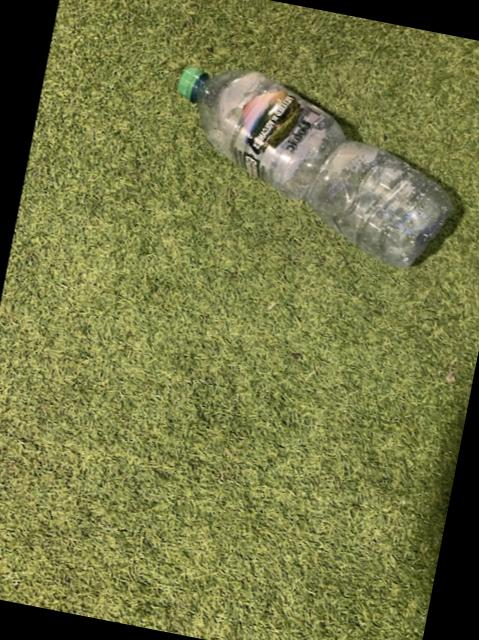plastic: (179, 66, 451, 265)
